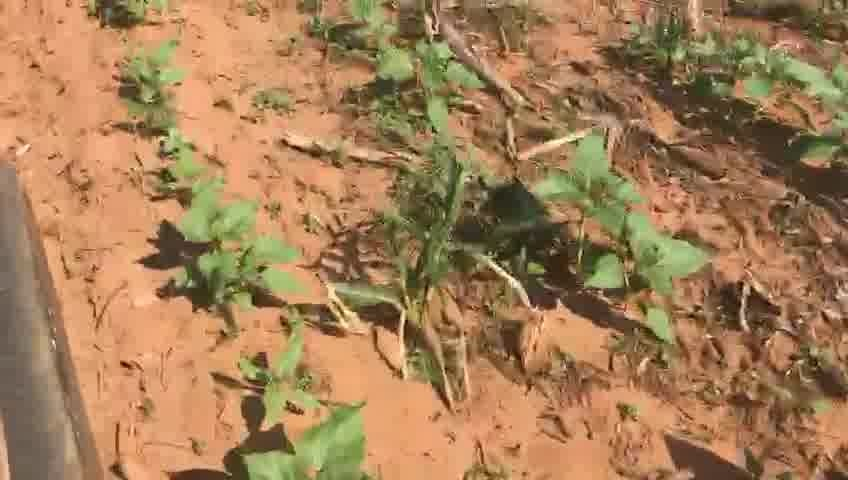sunflower: (185, 183, 301, 298), (218, 398, 373, 476), (576, 211, 708, 302), (526, 136, 635, 239), (374, 40, 485, 134), (236, 326, 322, 430), (126, 34, 190, 117), (148, 127, 214, 198)
